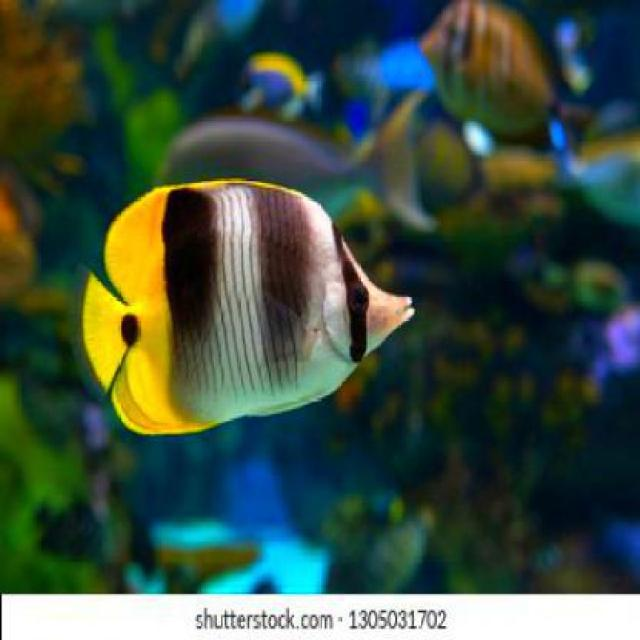ButterflyFish: (77, 178, 414, 432)
